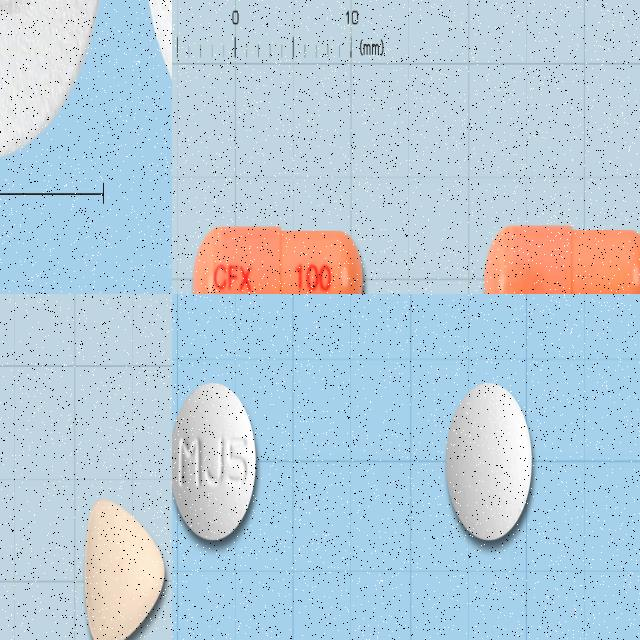Durova: (83, 497, 166, 640)
Kukje Cefixime Cap: (193, 224, 363, 294), (482, 223, 640, 294)
Levofcin: (172, 381, 258, 542), (447, 381, 532, 541)
Levofexin - 250mg: (0, 0, 103, 161)
